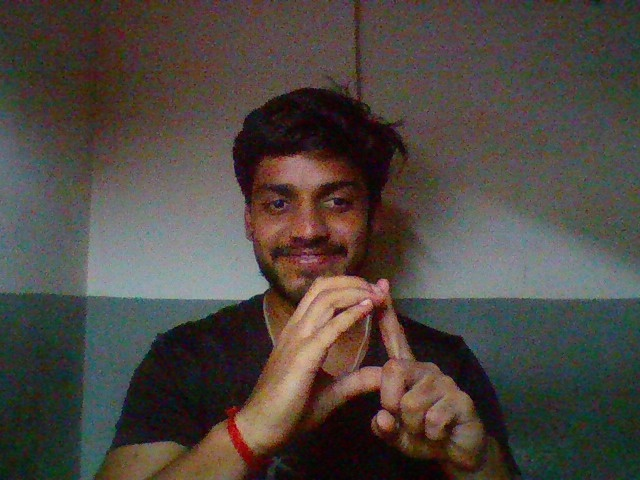D: (211, 266, 534, 480)
